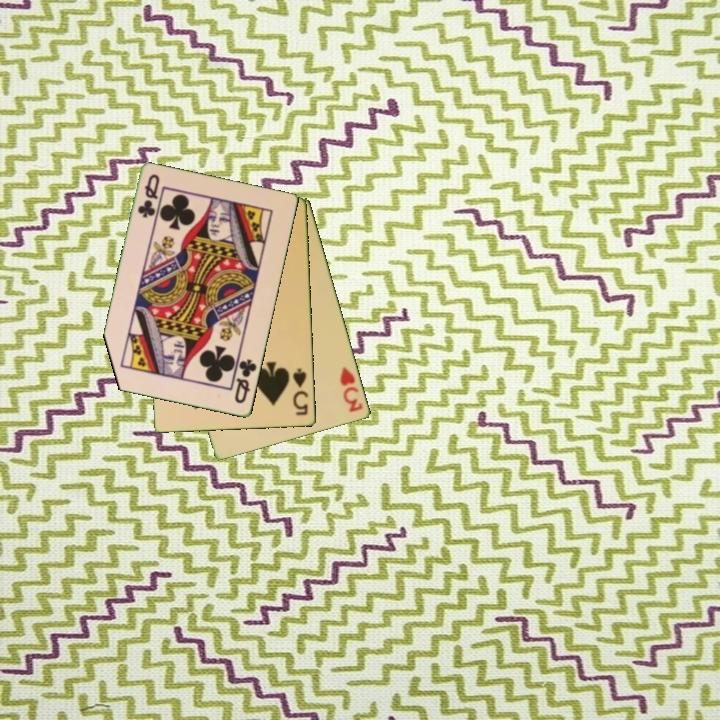3h: (337, 363, 366, 415)
5s: (289, 365, 311, 419)
Qc: (231, 356, 260, 407), (134, 171, 163, 221)
